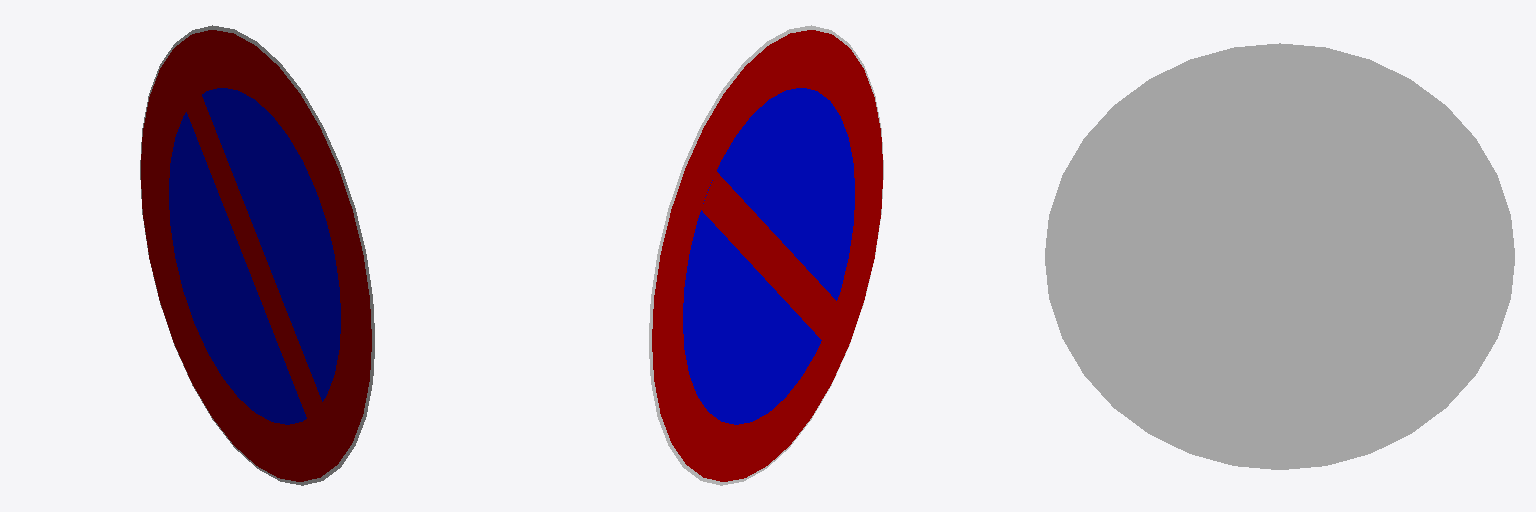
Rendered from noparkingsign.obj.
3 renders of one model, left to right at view 1: azimuth 30°, elevation 25°; view 2: azimuth 150°, elevation 25°; view 3: azimuth 270°, elevation 25°, orthographic.
Visible parts, largest first — view 1: Circle.002_Circle.001, Circle.003_Circle.002, Plane, Circle.001_Circle.000; view 2: Circle.002_Circle.001, Circle.003_Circle.002, Plane, Circle.001_Circle.000; view 3: Circle.001_Circle.000.
Boxes of the visible parts, <box> form: Circle.002_Circle.001: <box>169,88,340,424</box>; Circle.003_Circle.002: <box>141,30,371,481</box>; Plane: <box>186,93,322,418</box>; Circle.001_Circle.000: <box>140,25,374,485</box>; Circle.002_Circle.001: <box>683,88,854,424</box>; Circle.003_Circle.002: <box>652,30,882,481</box>; Plane: <box>701,171,837,340</box>; Circle.001_Circle.000: <box>649,25,883,485</box>; Circle.001_Circle.000: <box>1045,43,1514,469</box>.
Bounding box in the file's own units: 0.005 × 0.6 × 0.6.